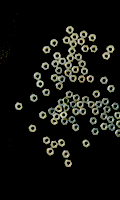nut: (67, 26, 75, 35), (71, 33, 80, 41), (43, 46, 52, 54), (75, 53, 83, 62), (55, 67, 64, 75), (37, 80, 45, 89), (65, 160, 74, 168), (80, 31, 88, 39), (89, 34, 97, 42), (63, 37, 71, 45), (78, 38, 86, 46), (82, 45, 90, 53), (107, 45, 115, 53), (103, 52, 111, 60), (91, 45, 99, 53), (54, 52, 62, 60), (79, 60, 87, 68), (52, 60, 60, 68), (42, 63, 50, 71), (34, 73, 42, 81), (65, 70, 73, 78), (72, 66, 80, 74), (81, 68, 89, 76), (51, 74, 59, 82), (70, 75, 78, 83), (87, 75, 95, 83), (56, 83, 64, 91), (43, 89, 51, 97), (15, 103, 23, 111), (101, 77, 109, 85), (108, 85, 116, 93), (66, 91, 74, 99), (73, 94, 81, 102), (70, 101, 78, 109), (55, 105, 63, 113), (49, 108, 57, 116), (39, 112, 47, 120), (29, 125, 37, 133), (112, 103, 120, 111), (102, 98, 110, 106), (104, 106, 112, 114), (92, 108, 100, 116), (108, 116, 116, 124), (101, 113, 109, 121), (109, 124, 117, 132), (101, 123, 109, 131), (92, 128, 100, 136), (53, 113, 61, 121), (69, 116, 77, 124), (73, 124, 81, 132), (83, 140, 91, 148), (51, 141, 59, 149), (43, 137, 51, 145), (47, 148, 55, 156), (63, 151, 71, 159), (51, 39, 58, 48), (59, 75, 66, 84), (78, 76, 87, 83), (31, 94, 38, 103), (60, 112, 69, 119), (59, 139, 66, 148), (70, 41, 78, 48), (69, 48, 77, 55), (67, 55, 75, 62), (59, 58, 67, 65), (65, 62, 73, 69), (93, 91, 101, 98), (63, 97, 70, 105), (58, 99, 65, 107), (78, 101, 85, 109), (83, 96, 90, 104), (63, 105, 71, 112), (89, 101, 96, 109), (96, 101, 104, 108), (80, 108, 87, 116), (73, 108, 80, 116), (90, 118, 98, 125), (51, 118, 59, 125), (61, 118, 69, 125), (115, 112, 120, 120), (116, 120, 120, 128), (116, 130, 120, 137)
